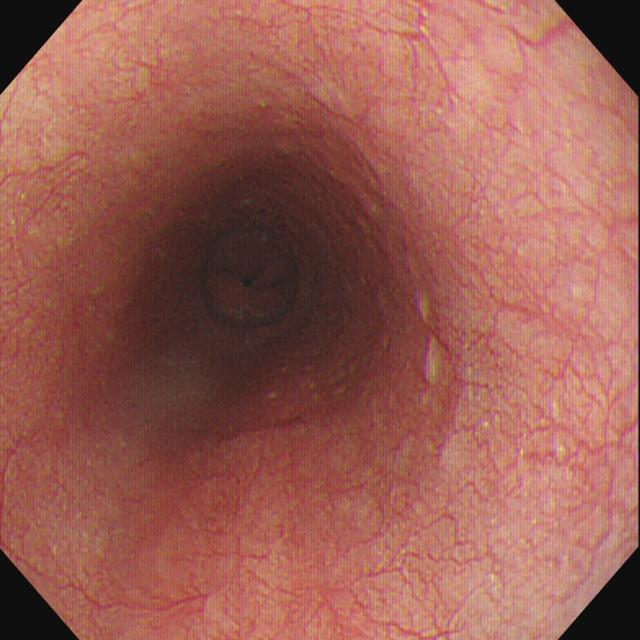E: (192, 205, 317, 339)
